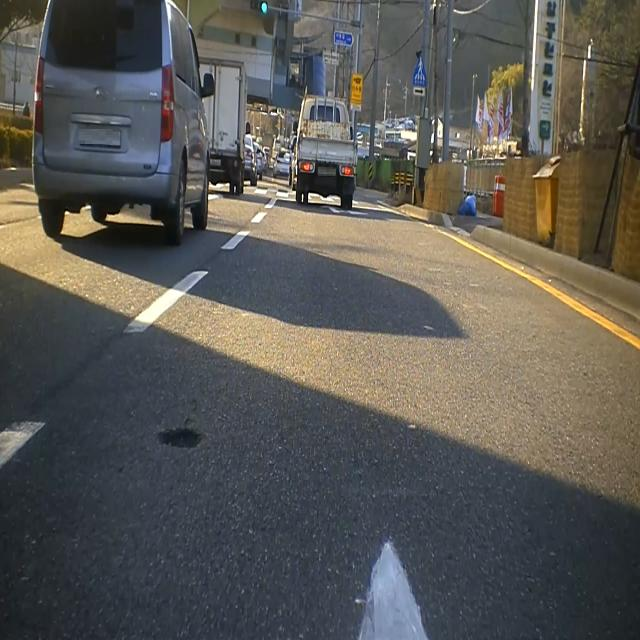Pothole: (157, 417, 204, 459)
